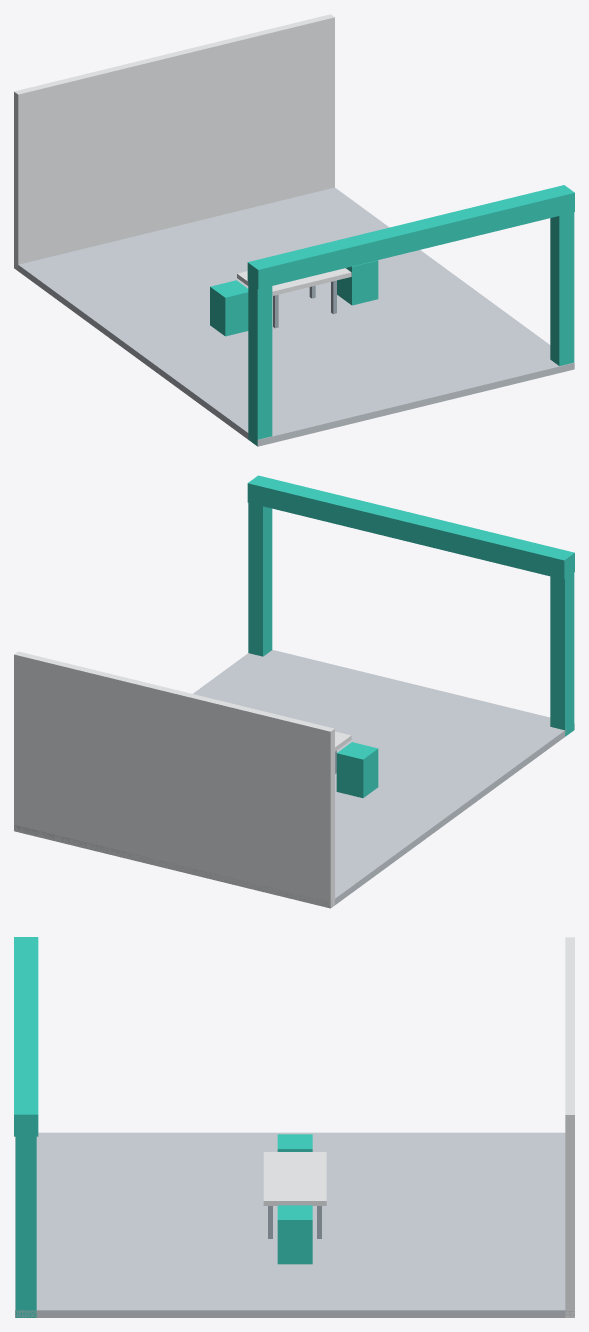
3 views of the same model, one above another, from view 1: azimuth 30°, elevation 25°; view 2: azimuth 150°, elevation 25°; view 3: azimuth 270°, elevation 25° (orthographic). The views are drawn at different scales.
Parts seen in each view (by area): view 1: Exhibition Booth Concept; view 2: Exhibition Booth Concept; view 3: Exhibition Booth Concept.
Part boxes in pixels (<box>): Exhibition Booth Concept: <box>14,14,574,446</box>; Exhibition Booth Concept: <box>14,475,574,908</box>; Exhibition Booth Concept: <box>14,937,574,1317</box>.
Size of the model in its own units: 6 by 3.2 by 8.01.
